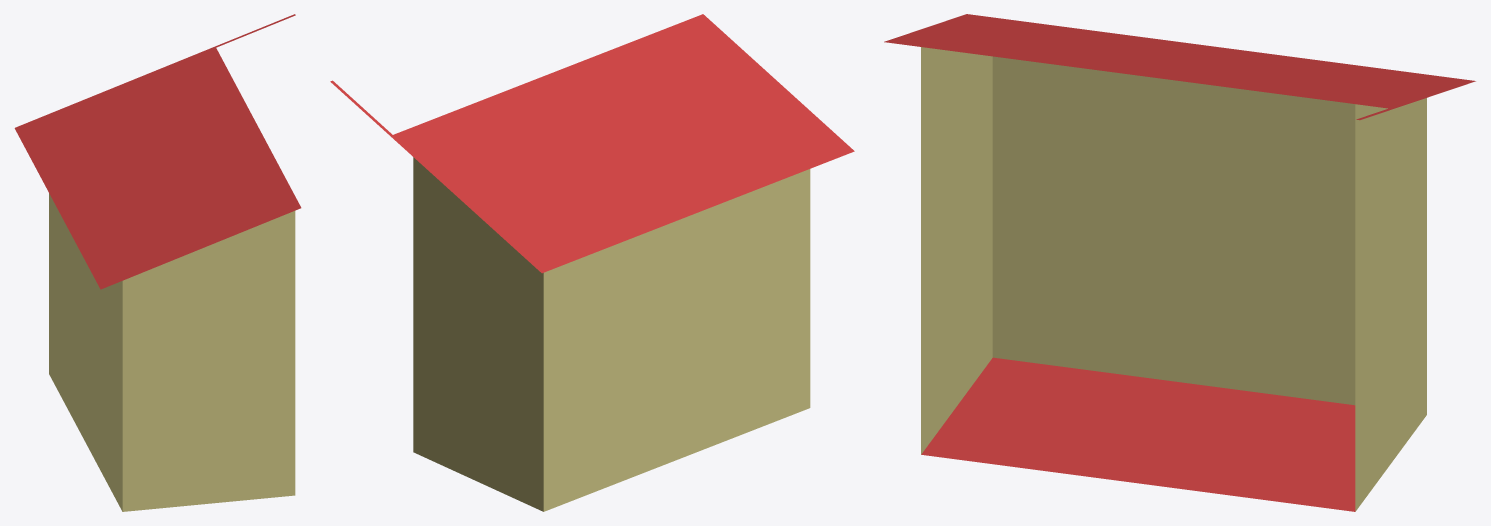
The picture shows the model from 3 angles, left to right: view 1: azimuth 30°, elevation 25°; view 2: azimuth 150°, elevation 25°; view 3: azimuth 270°, elevation 25°; orthographic projection. The views are drawn at different scales.
Size of the model in its own units: 10.11 by 11.25 by 9.24.
